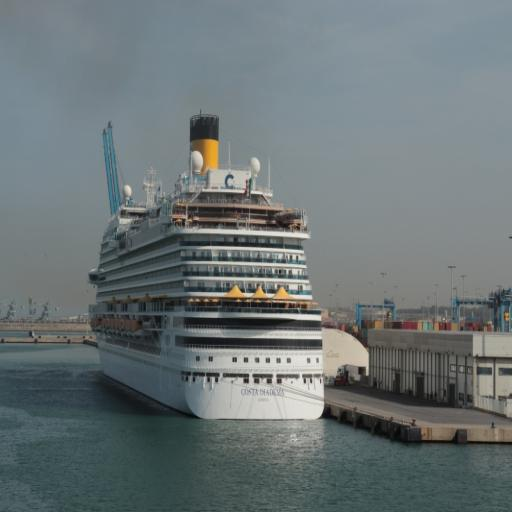cruises: (86, 108, 335, 425)
